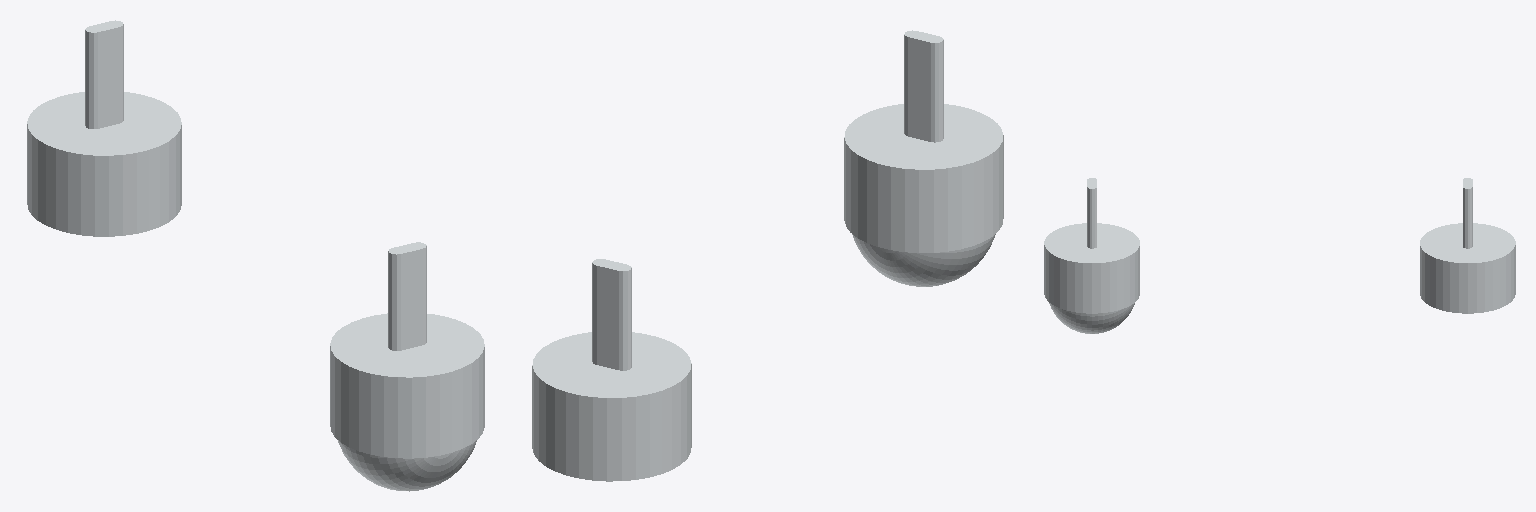
The robot description file, URDF, robot "lide":
<?xml version="1.0" encoding="utf-8"?>
<!-- This URDF was automatically created by SolidWorks to URDF Exporter! Originally created by [author] ([email redacted]) 
     Commit Version: 1.5.1-0-g916b5db  Build Version: 1.5.7152.31018
     For more information, please see http://wiki.ros.org/sw_urdf_exporter -->
<robot
  name="lide">
  <link
    name="base_link">
    <inertial>
      <origin
        xyz="-0.124039089703059 0.0849018285649875 0.0507049336382351"
        rpy="0 0 0" />
      <mass
        value="2.91745388040908" />
      <inertia
        ixx="0.00617452431631895"
        ixy="-7.1545090527461E-07"
        ixz="-1.26679487712579E-05"
        iyy="0.00553460681657008"
        iyz="-3.51329121715537E-07"
        izz="0.0110508759807573" />
    </inertial>
    <visual>
      <origin
        xyz="0 0 0"
        rpy="0 0 0" />
      <geometry>
        <mesh
          filename="package://lide/meshes/base_link.STL" />
      </geometry>
      <material
        name="">
        <color
          rgba="0.752941176470588 0.752941176470588 0.752941176470588 1" />
      </material>
    </visual>
    <collision>
      <origin
        xyz="0 0 0"
        rpy="0 0 0" />
      <geometry>
        <mesh
          filename="package://lide/meshes/base_link.STL" />
      </geometry>
    </collision>
  </link>
  <link
    name="LFS">
    <inertial>
      <origin
        xyz="0.0455604268709419 0.00830943309140331 0.00297622851896683"
        rpy="0 0 0" />
      <mass
        value="0.0727928435161986" />
      <inertia
        ixx="2.20927876796312E-05"
        ixy="-1.6484530205639E-08"
        ixz="-1.56454773175215E-07"
        iyy="1.62632133784213E-05"
        iyz="2.96411876511182E-09"
        izz="1.80843397531752E-05" />
    </inertial>
    <visual>
      <origin
        xyz="0 0 0"
        rpy="0 0 0" />
      <geometry>
        <mesh
          filename="package://lide/meshes/LFS.STL" />
      </geometry>
      <material
        name="">
        <color
          rgba="0.752941176470588 0.752941176470588 0.752941176470588 1" />
      </material>
    </visual>
    <collision>
      <origin
        xyz="0 0 0"
        rpy="0 0 0" />
      <geometry>
        <mesh
          filename="package://lide/meshes/LFS.STL" />
      </geometry>
    </collision>
  </link>
  <joint
    name="LFS"
    type="fixed">
    <origin
      xyz="-0.054044 0.18241 -0.036503"
      rpy="1.5708 0 1.5708" />
    <parent
      link="base_link" />
    <child
      link="LFS" />
    <axis
      xyz="0 0 0" />
  </joint>
  <link
    name="LFW">
    <inertial>
      <origin
        xyz="0.015 0 3.46944695195361E-18"
        rpy="0 0 0" />
      <mass
        value="0.767080911081153" />
      <inertia
        ixx="0.00116426102407189"
        ixy="4.45758864315272E-22"
        ixz="-1.82994146746971E-20"
        iyy="0.000639661580367031"
        iyz="-1.35525271560688E-20"
        izz="0.000639661580367032" />
    </inertial>
    <visual>
      <origin
        xyz="0 0 0"
        rpy="0 0 0" />
      <geometry>
        <mesh
          filename="package://lide/meshes/LFW.STL" />
      </geometry>
      <material
        name="">
        <color
          rgba="0.898039215686275 0.917647058823529 0.929411764705882 1" />
      </material>
    </visual>
    <collision>
      <origin
        xyz="0 0 0"
        rpy="0 0 0" />
      <geometry>
        <mesh
          filename="package://lide/meshes/LFW.STL" />
      </geometry>
    </collision>
  </link>
  <joint
    name="LFW"
    type="continuous">
    <origin
      xyz="0.0633463599631527 -0.00679803845222953 0.0150436140506676"
      rpy="-1.62639053095063 0 0" />
    <parent
      link="LFS" />
    <child
      link="LFW" />
    <axis
      xyz="1 0 0" />
    <limit
      effort="3.1"
      velocity="7" />
  </joint>
  <link
    name="RFS">
    <inertial>
      <origin
        xyz="-0.0191828308457407 -0.00900932874707057 0.0520056318885905"
        rpy="0 0 0" />
      <mass
        value="0.0727928435161986" />
      <inertia
        ixx="2.20927876796313E-05"
        ixy="-1.64845302056319E-08"
        ixz="1.56454773175213E-07"
        iyy="1.62632133784213E-05"
        iyz="-2.96411876510421E-09"
        izz="1.80843397531752E-05" />
    </inertial>
    <visual>
      <origin
        xyz="0 0 0"
        rpy="0 0 0" />
      <geometry>
        <mesh
          filename="package://lide/meshes/RFS.STL" />
      </geometry>
      <material
        name="">
        <color
          rgba="0.752941176470588 0.752941176470588 0.752941176470588 1" />
      </material>
    </visual>
    <collision>
      <origin
        xyz="0 0 0"
        rpy="0 0 0" />
      <geometry>
        <mesh
          filename="package://lide/meshes/RFS.STL" />
      </geometry>
    </collision>
  </link>
  <joint
    name="RFS"
    type="fixed">
    <origin
      xyz="-0.10307 -0.042784 -0.019216"
      rpy="1.5708 0 1.5708" />
    <parent
      link="base_link" />
    <child
      link="RFS" />
    <axis
      xyz="0 0 0" />
  </joint>
  <link
    name="RFW">
    <inertial>
      <origin
        xyz="-0.015 0 0"
        rpy="0 0 0" />
      <mass
        value="0.767080911081152" />
      <inertia
        ixx="0.00116426102407189"
        ixy="-1.2315168370675E-36"
        ixz="4.60638074444741E-39"
        iyy="0.000639661580367031"
        iyz="8.00462841683581E-39"
        izz="0.000639661580367031" />
    </inertial>
    <visual>
      <origin
        xyz="0 0 0"
        rpy="0 0 0" />
      <geometry>
        <mesh
          filename="package://lide/meshes/RFW.STL" />
      </geometry>
      <material
        name="">
        <color
          rgba="0.898039215686275 0.917647058823529 0.929411764705882 1" />
      </material>
    </visual>
    <collision>
      <origin
        xyz="0 0 0"
        rpy="0 0 0" />
      <geometry>
        <mesh
          filename="package://lide/meshes/RFW.STL" />
      </geometry>
    </collision>
  </link>
  <joint
    name="RFW"
    type="continuous">
    <origin
      xyz="-0.036969 -0.024084 0.064073"
      rpy="0 0 0" />
    <parent
      link="RFS" />
    <child
      link="RFW" />
    <axis
      xyz="1 0 0" />
    <limit
      effort="3.1"
      velocity="7" />
  </joint>
  <link
    name="LBS">
    <inertial>
      <origin
        xyz="0 -0.029384279339137 0"
        rpy="0 0 0" />
      <mass
        value="0.0953719735550794" />
      <inertia
        ixx="8.60551274221477E-05"
        ixy="8.25033890435269E-22"
        ixz="5.70072799361511E-20"
        iyy="8.19515157071385E-05"
        iyz="-2.7466330021711E-20"
        izz="8.63158418017919E-05" />
    </inertial>
    <visual>
      <origin
        xyz="0 0 0"
        rpy="0 0 0" />
      <geometry>
        <mesh
          filename="package://lide/meshes/LBS.STL" />
      </geometry>
      <material
        name="">
        <color
          rgba="0.898039215686275 0.917647058823529 0.929411764705882 1" />
      </material>
    </visual>
    <collision>
      <origin
        xyz="0 0 0"
        rpy="0 0 0" />
      <geometry>
        <mesh
          filename="package://lide/meshes/LBS.STL" />
      </geometry>
    </collision>
  </link>
  <joint
    name="LBS"
    type="fixed">
    <origin
      xyz="-0.202 0.228 -0.0025623"
      rpy="1.5708 0 1.5708" />
    <parent
      link="base_link" />
    <child
      link="LBS" />
    <axis
      xyz="0 0 0" />
  </joint>
  <link
    name="LBW">
    <inertial>
      <origin
        xyz="6.9389E-18 0 -2.7756E-17"
        rpy="0 0 0" />
      <mass
        value="0.47957" />
      <inertia
        ixx="0.00023542"
        ixy="-1.9655E-38"
        ixz="7.7646E-40"
        iyy="0.00023758"
        iyz="-7.8066E-40"
        izz="0.00023542" />
    </inertial>
    <visual>
      <origin
        xyz="0 0 0"
        rpy="0 0 0" />
      <geometry>
        <mesh
          filename="package://lide/meshes/LBW.STL" />
      </geometry>
      <material
        name="">
        <color
          rgba="0.89804 0.91765 0.92941 1" />
      </material>
    </visual>
    <collision>
      <origin
        xyz="0 0 0"
        rpy="0 0 0" />
      <geometry>
        <mesh
          filename="package://lide/meshes/LBW.STL" />
      </geometry>
    </collision>
  </link>
  <joint
    name="LBW"
    type="revolute">
    <origin
      xyz="0 -0.060738 0"
      rpy="0 0 -1.5708" />
    <parent
      link="LBS" />
    <child
      link="LBW" />
    <axis
      xyz="0 1 0" />
    <limit
      lower="0"
      upper="0"
      effort="0"
      velocity="0" />
    <dynamics
      damping="0.001" />
  </joint>
  <link
    name="RBS">
    <inertial>
      <origin
        xyz="0 -0.029384279339137 -2.77555756156289E-17"
        rpy="0 0 0" />
      <mass
        value="0.0953719735550794" />
      <inertia
        ixx="8.60551274221477E-05"
        ixy="4.83996477136411E-20"
        ixz="5.96249293805221E-20"
        iyy="8.19515157071387E-05"
        iyz="-2.7466330021711E-20"
        izz="8.63158418017921E-05" />
    </inertial>
    <visual>
      <origin
        xyz="0 0 0"
        rpy="0 0 0" />
      <geometry>
        <mesh
          filename="package://lide/meshes/RBS.STL" />
      </geometry>
      <material
        name="">
        <color
          rgba="0.898039215686275 0.917647058823529 0.929411764705882 1" />
      </material>
    </visual>
    <collision>
      <origin
        xyz="0 0 0"
        rpy="0 0 0" />
      <geometry>
        <mesh
          filename="package://lide/meshes/RBS.STL" />
      </geometry>
    </collision>
  </link>
  <joint
    name="RBS"
    type="fixed">
    <origin
      xyz="-0.202 -0.062003 -0.0025623"
      rpy="1.5708 0 1.5708" />
    <parent
      link="base_link" />
    <child
      link="RBS" />
    <axis
      xyz="0 0 0" />
  </joint>
  <link
    name="RBW">
    <inertial>
      <origin
        xyz="0 0 0"
        rpy="0 0 0" />
      <mass
        value="0.47957" />
      <inertia
        ixx="0.00023542"
        ixy="7.2576E-39"
        ixz="3.4442E-40"
        iyy="0.00023758"
        iyz="-7.6906E-40"
        izz="0.00023542" />
    </inertial>
    <visual>
      <origin
        xyz="0 0 0"
        rpy="0 0 0" />
      <geometry>
        <mesh
          filename="package://lide/meshes/RBW.STL" />
      </geometry>
      <material
        name="">
        <color
          rgba="0.89804 0.91765 0.92941 1" />
      </material>
    </visual>
    <collision>
      <origin
        xyz="0 0 0"
        rpy="0 0 0" />
      <geometry>
        <mesh
          filename="package://lide/meshes/RBW.STL" />
      </geometry>
    </collision>
  </link>
  <joint
    name="RBW"
    type="revolute">
    <origin
      xyz="0 -0.060738 0"
      rpy="0 0 -1.5708" />
    <parent
      link="RBS" />
    <child
      link="RBW" />
    <axis
      xyz="0 1 0" />
    <limit
      lower="0"
      upper="0"
      effort="0"
      velocity="0" />
    <dynamics
      damping="0.001" />
  </joint>
  <link
    name="fcam">
    <inertial>
      <origin
        xyz="-0.0115544746517359 -2.64429642850283E-06 0.00129029302682174"
        rpy="0 0 0" />
      <mass
        value="0.0436119957238952" />
      <inertia
        ixx="2.35707061906175E-05"
        ixy="-1.01842273865681E-09"
        ixz="2.17585832536658E-08"
        iyy="4.29479050056035E-06"
        iyz="-8.85018118759863E-10"
        izz="2.21058153511886E-05" />
    </inertial>
    <visual>
      <origin
        xyz="0 0 0"
        rpy="0 0 0" />
      <geometry>
        <mesh
          filename="package://lide/meshes/fcam.STL" />
      </geometry>
      <material
        name="">
        <color
          rgba="0.792156862745098 0.819607843137255 0.933333333333333 1" />
      </material>
    </visual>
    <collision>
      <origin
        xyz="0 0 0"
        rpy="0 0 0" />
      <geometry>
        <mesh
          filename="package://lide/meshes/fcam.STL" />
      </geometry>
    </collision>
  </link>
  <joint
    name="fcam"
    type="fixed">
    <origin
      xyz="-0.0038823 0.083 0.12982"
      rpy="0 0.2618 0" />
    <parent
      link="base_link" />
    <child
      link="fcam" />
    <axis
      xyz="0 0 0" />
  </joint>
  <link
    name="bcam">
    <inertial>
      <origin
        xyz="-0.02010346452991 -2.64354903287134E-06 -0.00725869505663598"
        rpy="0 0 0" />
      <mass
        value="0.0436119949785286" />
      <inertia
        ixx="2.357070560996E-05"
        ixy="-1.01834758005619E-09"
        ixz="2.17579332532706E-08"
        iyy="4.29479078276665E-06"
        iyz="-8.85484503961915E-10"
        izz="2.21058144654638E-05" />
    </inertial>
    <visual>
      <origin
        xyz="0 0 0"
        rpy="0 0 0" />
      <geometry>
        <mesh
          filename="package://lide/meshes/bcam.STL" />
      </geometry>
      <material
        name="">
        <color
          rgba="0.792156862745098 0.819607843137255 0.933333333333333 1" />
      </material>
    </visual>
    <collision>
      <origin
        xyz="0 0 0"
        rpy="0 0 0" />
      <geometry>
        <mesh
          filename="package://lide/meshes/bcam.STL" />
      </geometry>
    </collision>
  </link>
  <joint
    name="bcam"
    type="fixed">
    <origin
      xyz="0 0.083 0.091232"
      rpy="0 0.7854 0" />
    <parent
      link="base_link" />
    <child
      link="bcam" />
    <axis
      xyz="0 0 0" />
  </joint>
  <link
    name="Lidar">
    <inertial>
      <origin
        xyz="0.0135233595886408 0.000461955982206302 -0.0287648854950511"
        rpy="0 0 0" />
      <mass
        value="0.0730845717569496" />
      <inertia
        ixx="1.95808757419765E-05"
        ixy="-1.03933585736234E-07"
        ixz="-4.28391168396098E-07"
        iyy="2.41250079666672E-05"
        iyz="9.42710206434151E-09"
        izz="4.14184516368183E-05" />
    </inertial>
    <visual>
      <origin
        xyz="0 0 0"
        rpy="0 0 0" />
      <geometry>
        <mesh
          filename="package://lide/meshes/Lidar.STL" />
      </geometry>
      <material
        name="">
        <color
          rgba="0.792156862745098 0.819607843137255 0.933333333333333 1" />
      </material>
    </visual>
    <collision>
      <origin
        xyz="0 0 0"
        rpy="0 0 0" />
      <geometry>
        <mesh
          filename="package://lide/meshes/Lidar.STL" />
      </geometry>
    </collision>
  </link>
  <joint
    name="Lidar"
    type="fixed">
    <origin
      xyz="-0.19458 0.082006 0.2065"
      rpy="0 0 0" />
    <parent
      link="base_link" />
    <child
      link="Lidar" />
    <axis
      xyz="0 0 0" />
  </joint>
  <link
    name="bacam">
    <inertial>
      <origin
        xyz="-0.011554 -2.6441E-06 0.0012903"
        rpy="0 0 0" />
      <mass
        value="0.043612" />
      <inertia
        ixx="2.3571E-05"
        ixy="-1.0185E-09"
        ixz="2.1758E-08"
        iyy="4.2948E-06"
        iyz="-8.8503E-10"
        izz="2.2106E-05" />
    </inertial>
    <visual>
      <origin
        xyz="0 0 0"
        rpy="0 0 0" />
      <geometry>
        <mesh
          filename="package://lide/meshes/bacam.STL" />
      </geometry>
      <material
        name="">
        <color
          rgba="0.79216 0.81961 0.93333 1" />
      </material>
    </visual>
    <collision>
      <origin
        xyz="0 0 0"
        rpy="0 0 0" />
      <geometry>
        <mesh
          filename="package://lide/meshes/bacam.STL" />
      </geometry>
    </collision>
  </link>
  <joint
    name="bacam"
    type="fixed">
    <origin
      xyz="-0.24887 0.083 0.12838"
      rpy="0 0.34907 3.1416" />
    <parent
      link="base_link" />
    <child
      link="bacam" />
    <axis
      xyz="0 0 0" />
  </joint>
  <link
    name="imu_link">
    <inertial>
      <origin
        xyz="0 0 0"
        rpy="0 0 0" />
      <mass
        value="0" />
      <inertia
        ixx="0"
        ixy="0"
        ixz="0"
        iyy="0"
        iyz="0"
        izz="0" />
    </inertial>
    <visual>
      <origin
        xyz="0 0 0"
        rpy="0 0 0" />
      <geometry>
        <mesh
          filename="package://lide/meshes/imu_link.STL" />
      </geometry>
      <material
        name="">
        <color
          rgba="1 1 1 1" />
      </material>
    </visual>
    <collision>
      <origin
        xyz="0 0 0"
        rpy="0 0 0" />
      <geometry>
        <mesh
          filename="package://lide/meshes/imu_link.STL" />
      </geometry>
    </collision>
  </link>
  <joint
    name="imu_link"
    type="fixed">
    <origin
      xyz="-0.039 0.083 0.155"
      rpy="0 0 0" />
    <parent
      link="base_link" />
    <child
      link="imu_link" />
    <axis
      xyz="0 0 0" />
  </joint>
</robot>

--- What the picture shows (computed from the rendered views, not written in the file) ---
3 views of the same robot in one strip: view 1: azimuth 30°, elevation 25°; view 2: azimuth 150°, elevation 25°; view 3: azimuth 270°, elevation 25° (orthographic).
Robot: lide — 14 links, 13 joints (2 revolute, 2 continuous, 9 fixed); root link base_link; default pose: all joints at 0.
Links seen in each view (by area): view 1: LBS, RBS, RBW; view 2: LBS, RBS, RBW; view 3: LBS, RBS, RBW.
Boxes of the visible links, x1,y1,x2,y2 form: LBS: (27, 20, 181, 236); RBS: (330, 242, 484, 458); RBW: (338, 440, 476, 491); LBS: (532, 259, 691, 481); RBS: (844, 30, 1003, 252); RBW: (852, 234, 995, 286); LBS: (1420, 178, 1515, 313); RBS: (1044, 178, 1139, 313); RBW: (1049, 303, 1134, 333).
Bounding box of the posed robot: 0.074 × 0.3637 × 0.1247 m (x, y, z).
Meshes: 14 distinct files referenced, 3 mesh visuals loaded (3 binary STL); not drawn: 11 (reference not matched to a file when rendering).